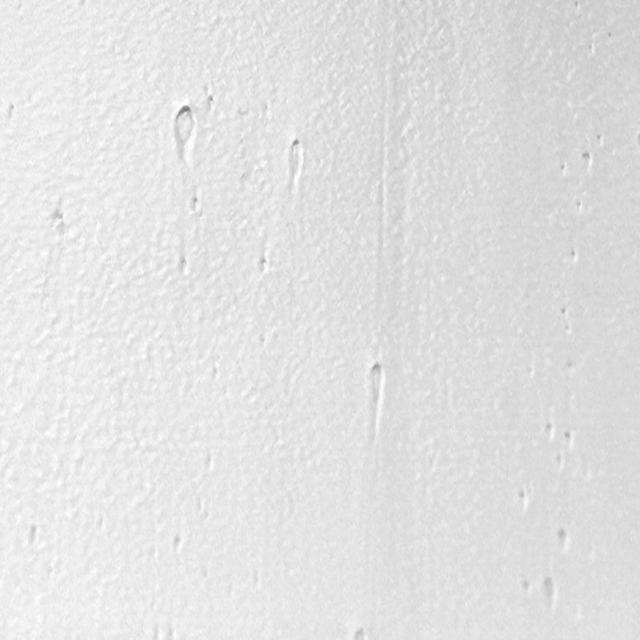pin holes: (170, 106, 200, 156), (284, 141, 305, 180), (366, 363, 386, 399), (24, 524, 46, 550), (540, 576, 558, 607), (578, 150, 597, 174), (553, 529, 571, 553), (514, 488, 532, 512), (564, 358, 582, 381), (540, 419, 557, 443), (50, 209, 68, 228), (189, 195, 205, 216), (258, 254, 272, 276), (568, 248, 582, 268), (564, 430, 578, 450), (203, 449, 214, 474), (179, 256, 192, 277), (170, 535, 184, 554), (520, 578, 533, 596), (553, 452, 566, 470), (351, 625, 369, 638), (7, 103, 19, 121), (205, 94, 217, 112), (574, 198, 586, 214), (211, 362, 219, 386), (558, 305, 570, 320), (557, 163, 569, 177)
